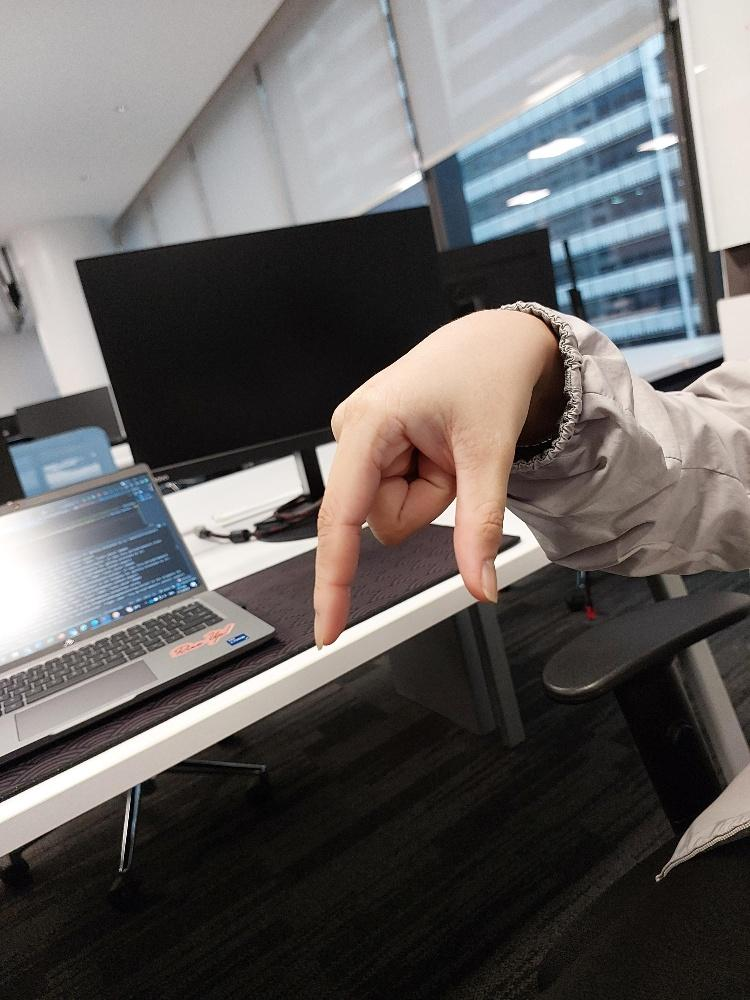q: (311, 309, 529, 647)
